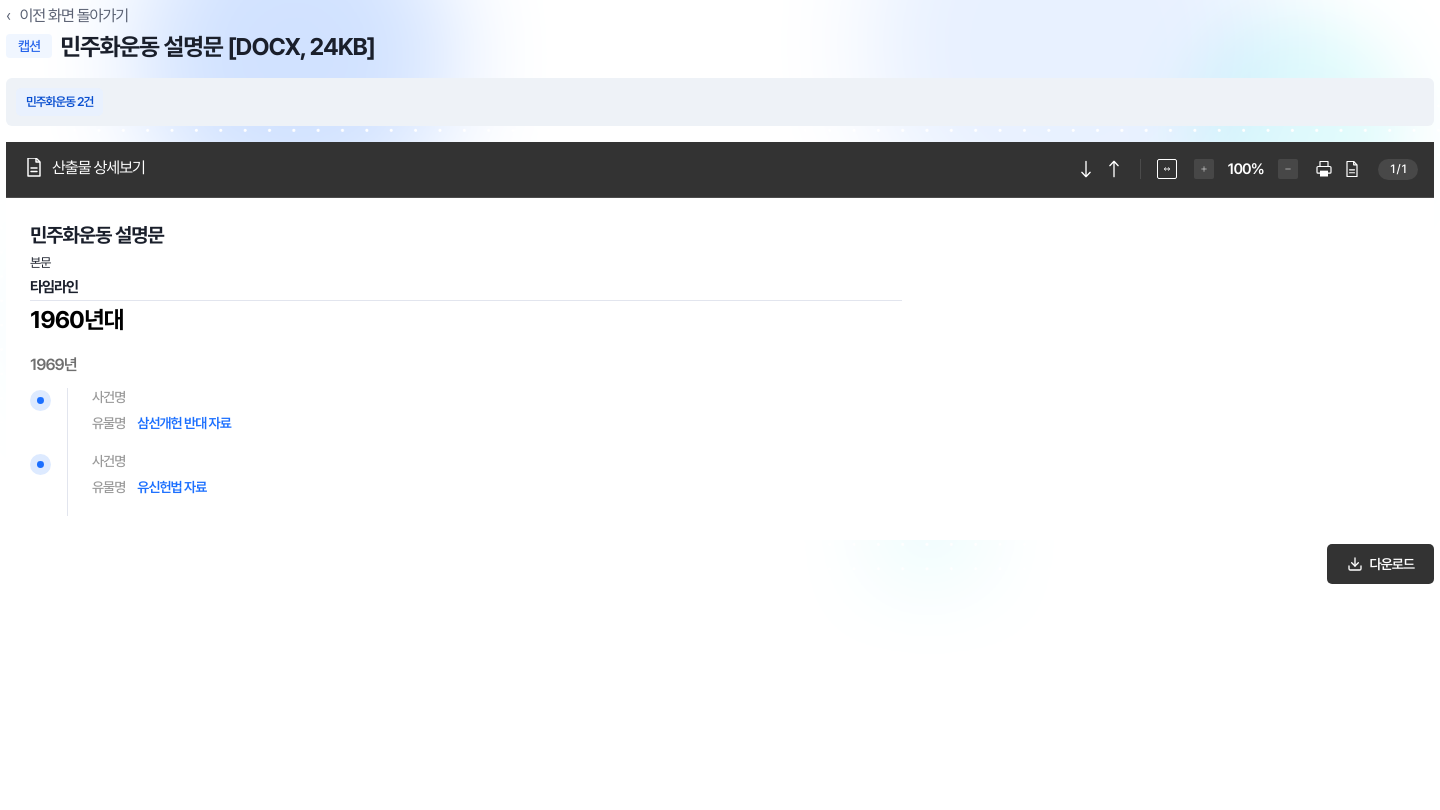
Test: 유물명을 누르면 우측 뷰어가 생기고 그 유물의 subject_era 로 쪽을 찾는다
Click the button "삼선개헌 반대 자료". click: (184, 423)
box: [137, 414, 231, 432]
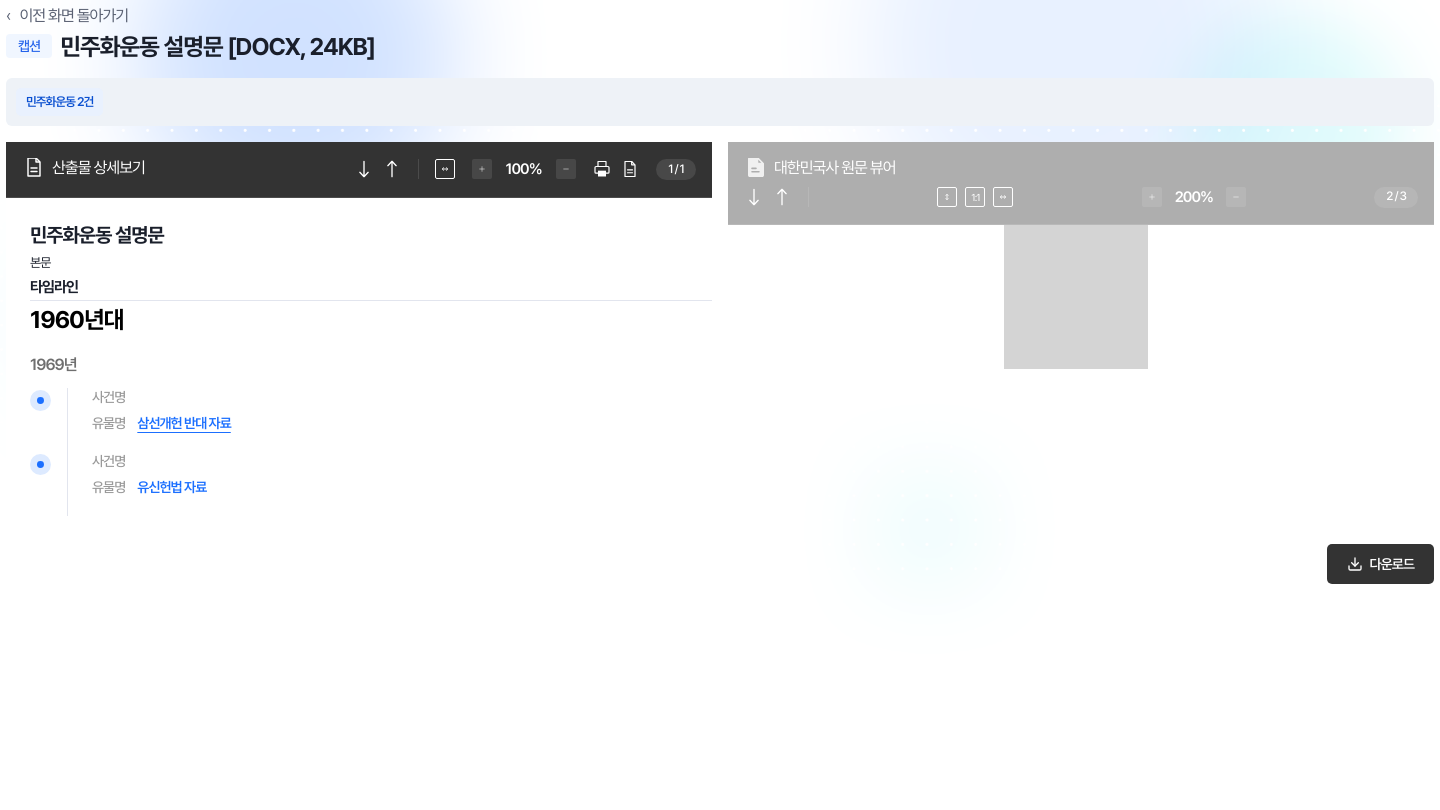
Check: the text "대한민국사 원문 뷰어" is shown, box [774, 158, 896, 177]
